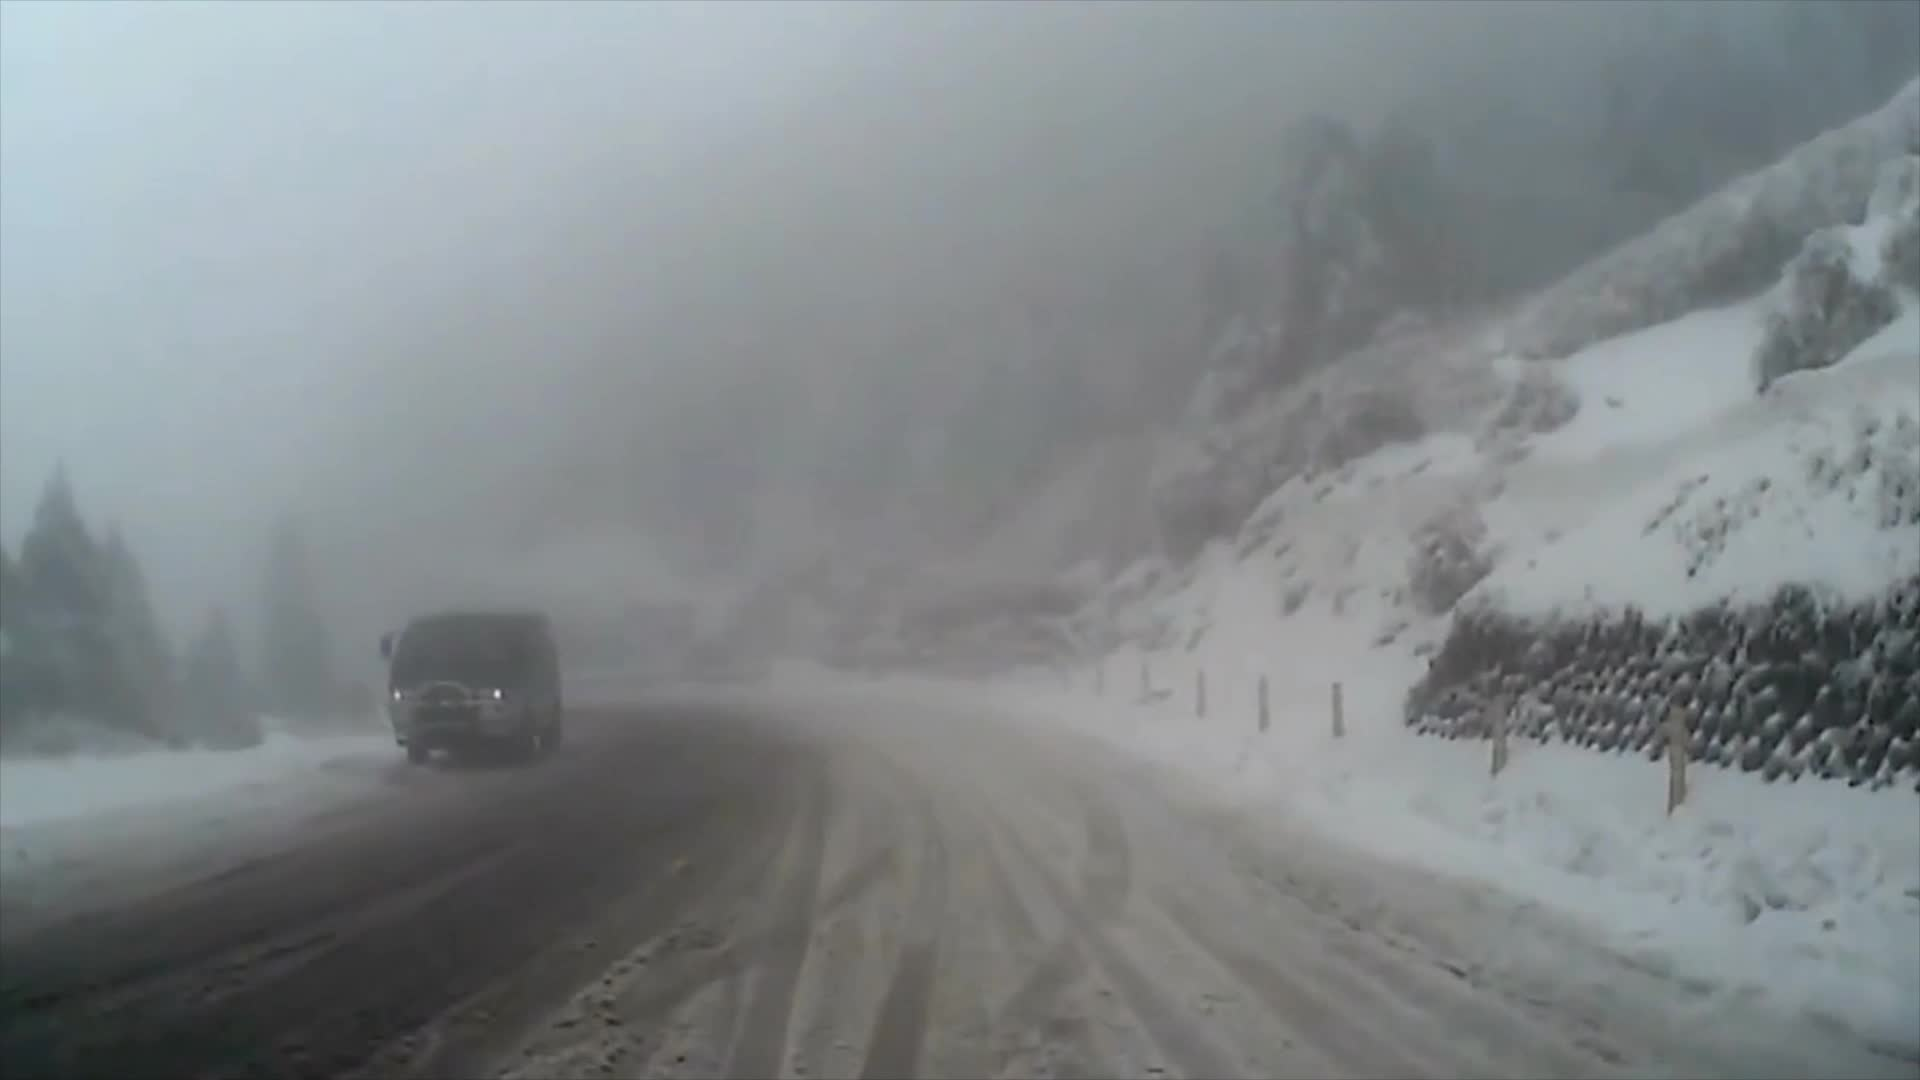vehicle: (375, 607, 563, 765)
